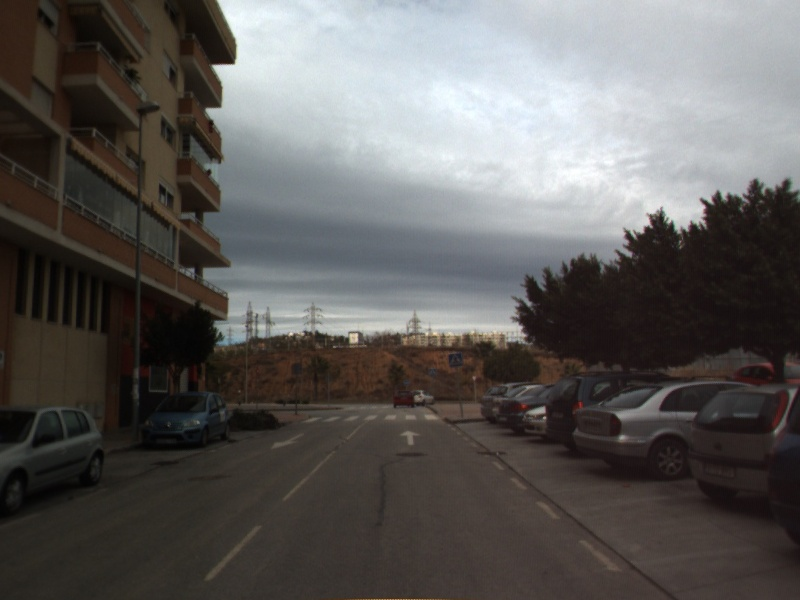STRAIGHT: (398, 428, 423, 447)
